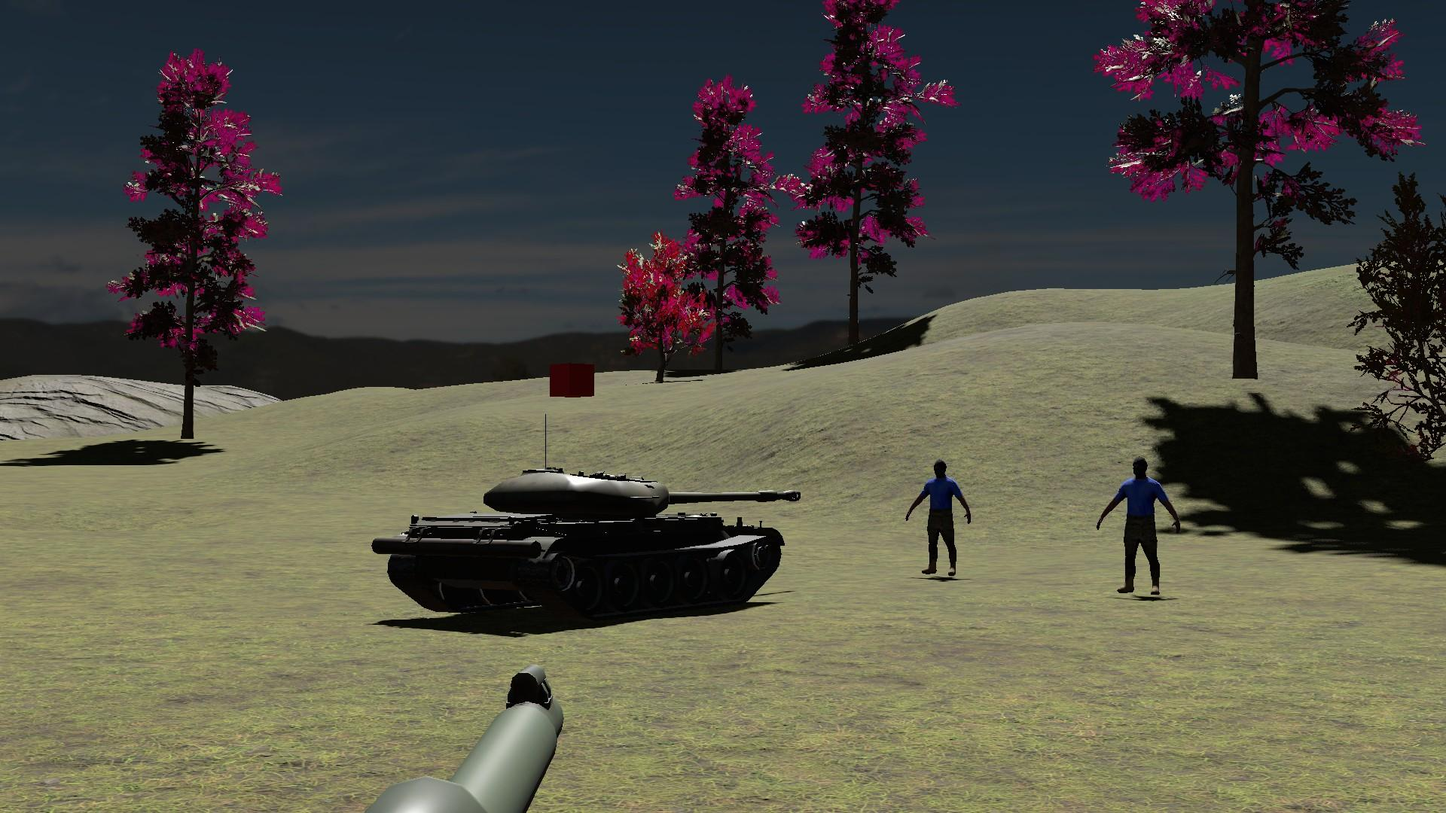Human: (1091, 451, 1186, 602), (900, 453, 978, 584)
Tank: (366, 451, 807, 628)
